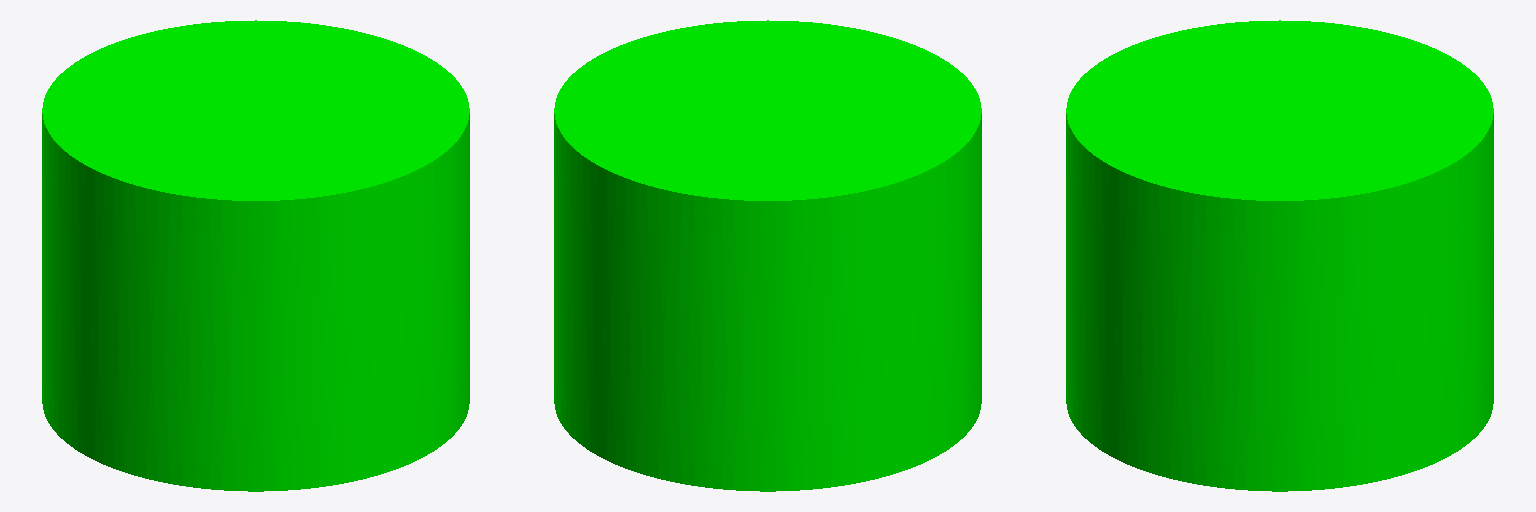
The robot description file, URDF, robot "Cylinder_v6_80_60":
<robot name="Cylinder_v6_80_60">
	<link name="object">
		<visual>
			<origin xyz="0.0 -2.059711724752023e-17 -0.6000000000000001" rpy="0.0 0.0 0.0" />
			<geometry>
				<mesh filename="Cylinder_v6_80_60/Cylinder_v6_80_60.obj" scale="0.02 0.02 0.02" />
			</geometry>
			<material name="texture">
				<color rgba="0.0 1.0 0.0 1.0" />
			</material>
		</visual>
		<collision>
			<origin xyz="0.0 -2.059711724752023e-17 -0.6000000000000001" rpy="0.0 0.0 0.0" />
			<geometry>
				<mesh filename="Cylinder_v6_80_60/Cylinder_v6_80_60_vhacd.obj" scale="0.02 0.02 0.02" />
			</geometry>
		</collision>
		<inertial>
			<mass value="0.020" />
			<inertia ixx="1.0" ixy="0.0" ixz="0.0" iyy="1.0" iyz="0.0" izz="1.0" />
		</inertial>
	</link>
</robot>

--- What the picture shows (computed from the rendered views, not written in the file) ---
The picture shows the robot from 3 angles, left to right: view 1: azimuth 30°, elevation 25°; view 2: azimuth 150°, elevation 25°; view 3: azimuth 270°, elevation 25°; orthographic projection.
Model Cylinder_v6_80_60 with 1 links and 0 joints (none), rooted at object, posed all joints at 0.
Visible links, largest first — view 1: object; view 2: object; view 3: object.
Link boxes in pixels (x1,y1,x2,y2): object: (42, 20, 469, 491); object: (554, 20, 981, 491); object: (1066, 20, 1493, 491).
Size in the robot's own frame: 1.6 by 1.6 by 1.2 metres.
Meshes: 1 distinct files referenced, 1 mesh visuals loaded (1 OBJ).